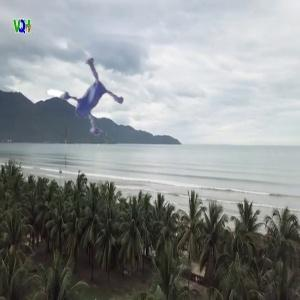drone: (29, 41, 137, 149)
